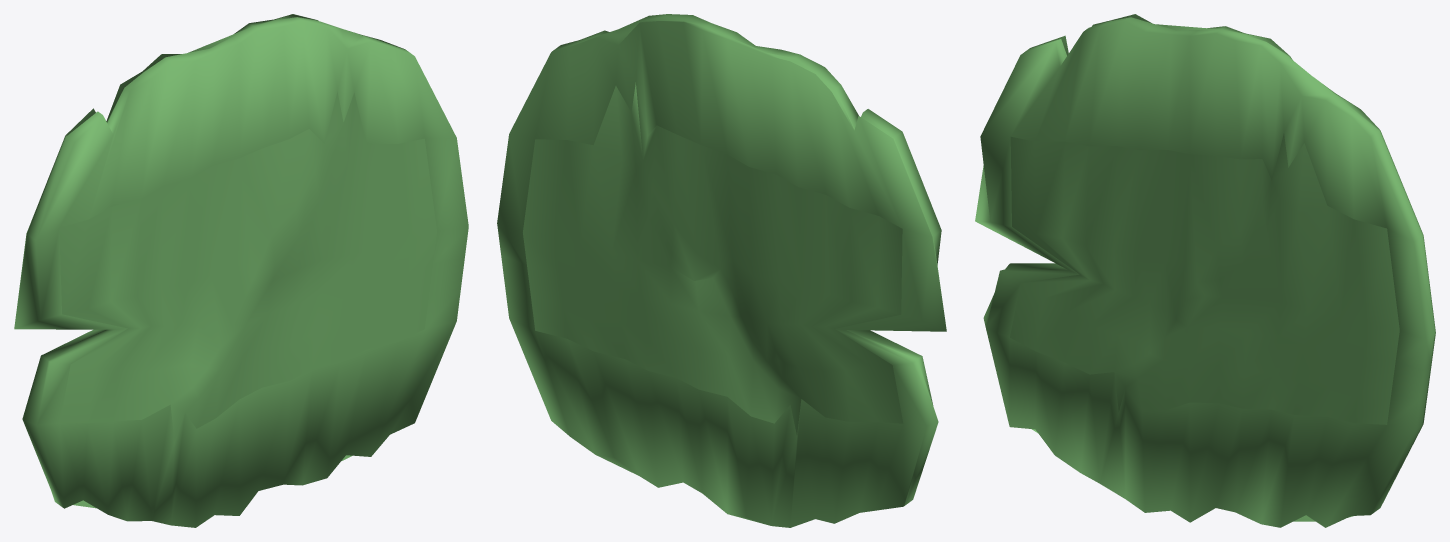
The model's file is lettuce.fbx.
The picture shows the model from 3 angles, left to right: view 1: azimuth 30°, elevation 25°; view 2: azimuth 150°, elevation 25°; view 3: azimuth 330°, elevation 25°; orthographic projection. The views are drawn at different scales.
Parts seen in each view (by area): view 1: Cube; view 2: Cube; view 3: Cube.
Part boxes in pixels (box(x1,y1,x2,y2)): Cube: box(14, 14, 468, 527); Cube: box(497, 14, 946, 527); Cube: box(975, 14, 1435, 527).
Size of the model in its own units: 2.55 by 2.62 by 0.1727.
Materials: 1 (1 with a texture image).
